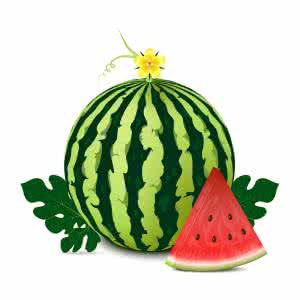watermelon: (64, 62, 242, 250)
